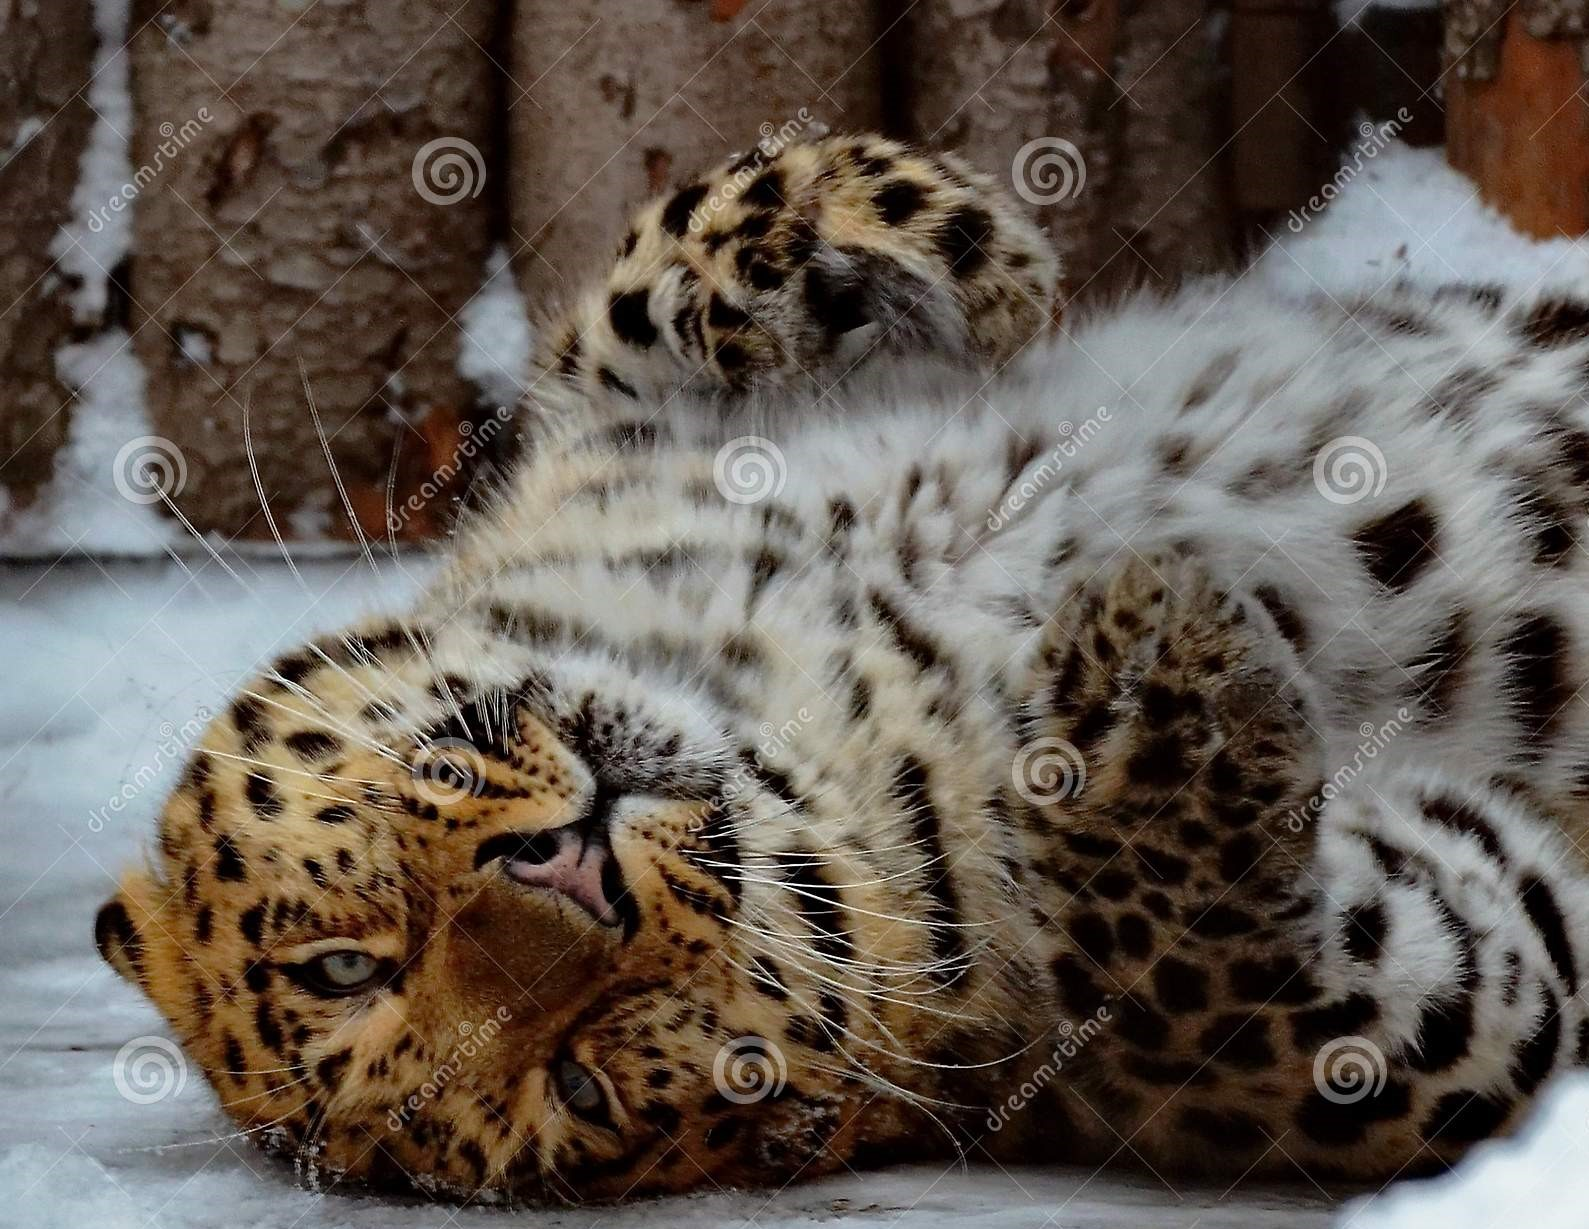amur_leopard: (48, 527, 844, 1170)
